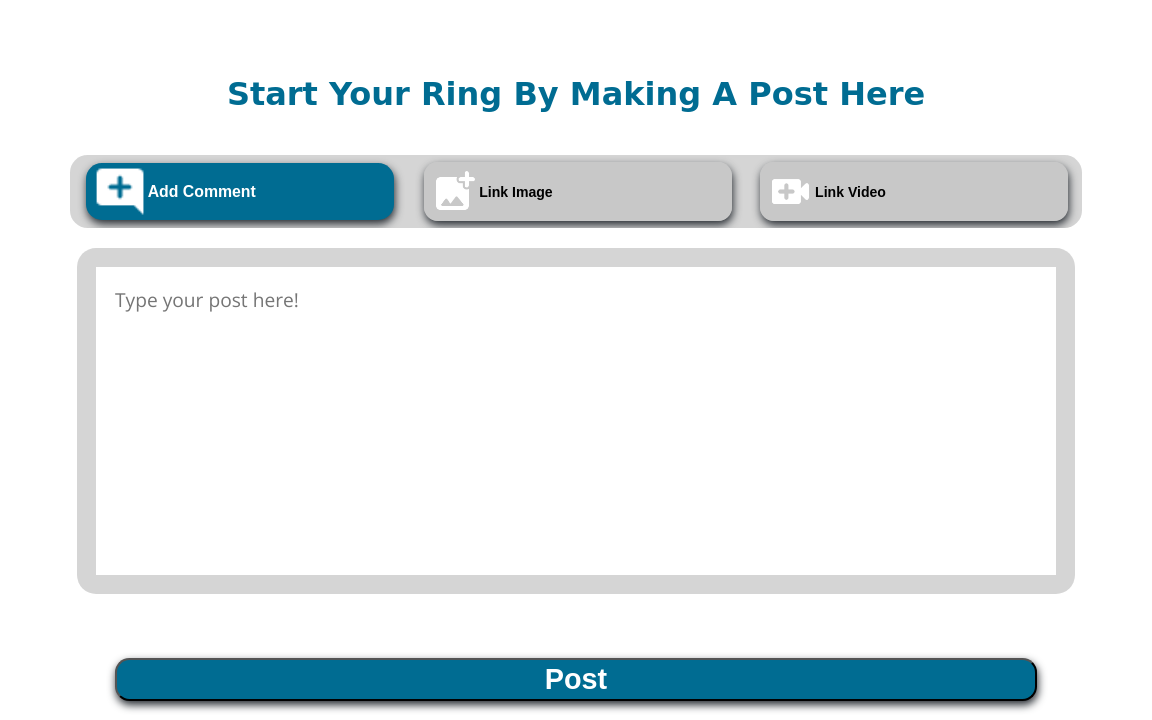
Test case: Make_Post › Make_Post › should switch forms when clicking buttons
Click the button "Link Image" at (455, 192), box [424, 162, 732, 221]
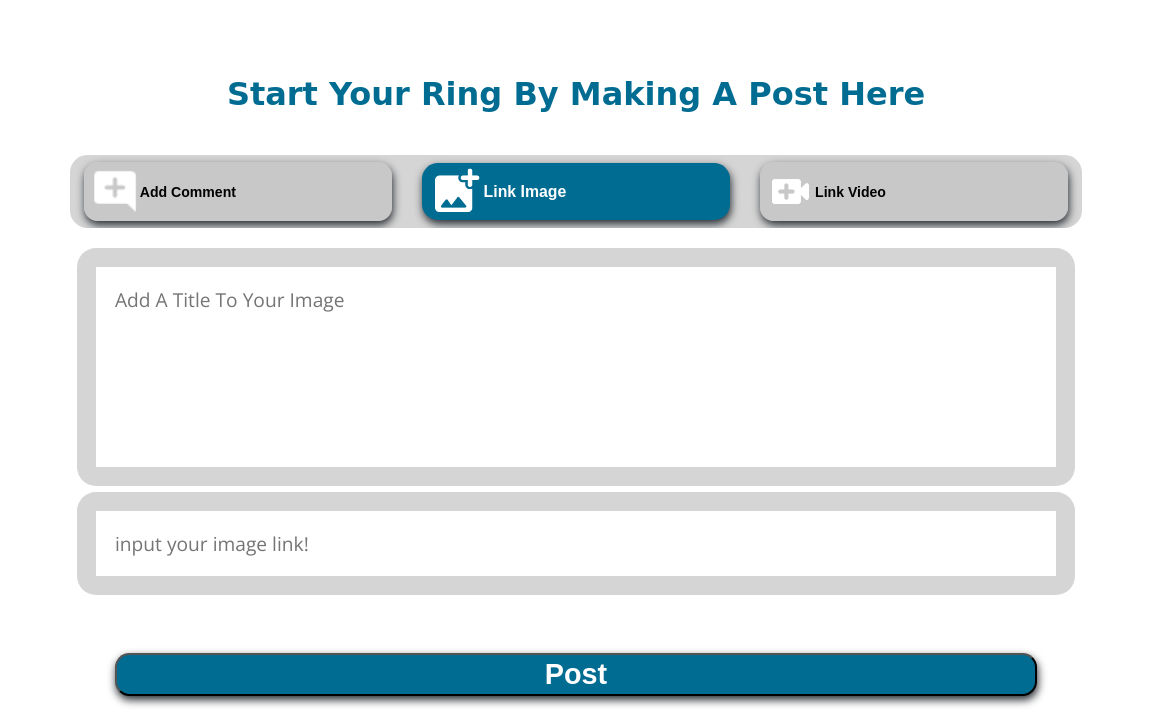
Expected: the text box with placeholder "Add A Title To Your Image" is shown, [77, 248, 1075, 486]
Click the button "Link Video" at (790, 192), box [760, 162, 1068, 221]
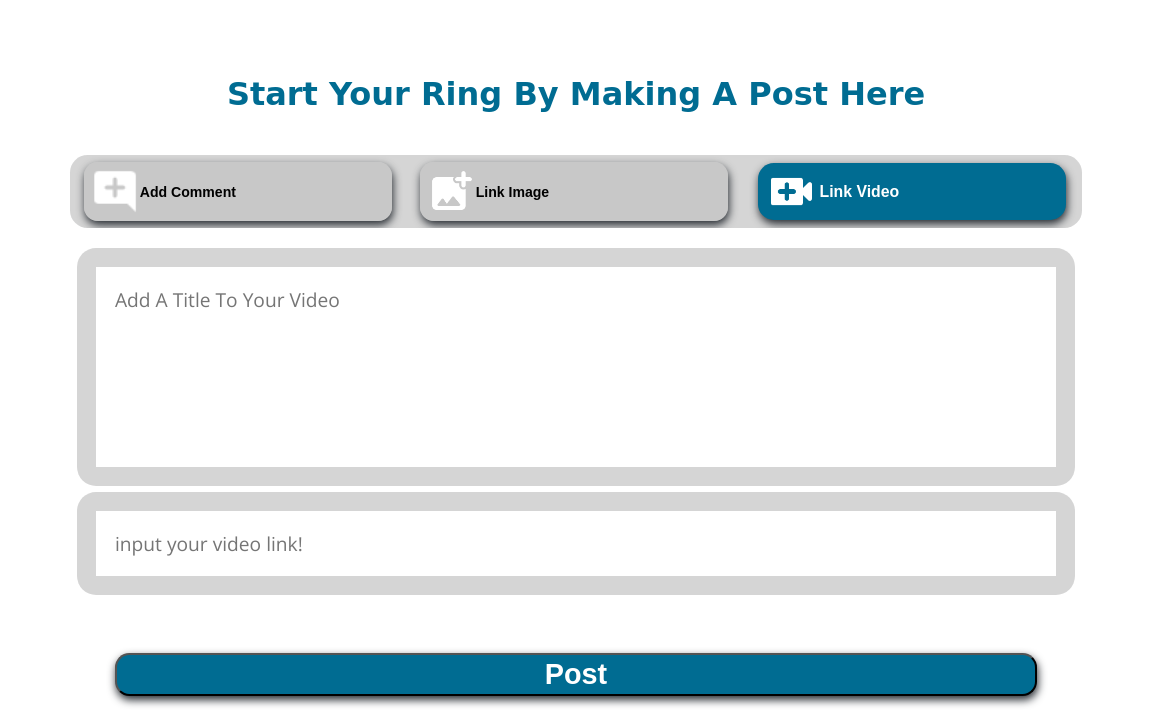
Expected: the text box with placeholder "Add A Title To Your Video" is shown, [77, 248, 1075, 486]
Click the button "Add Comment" at (238, 192), box [84, 162, 392, 221]
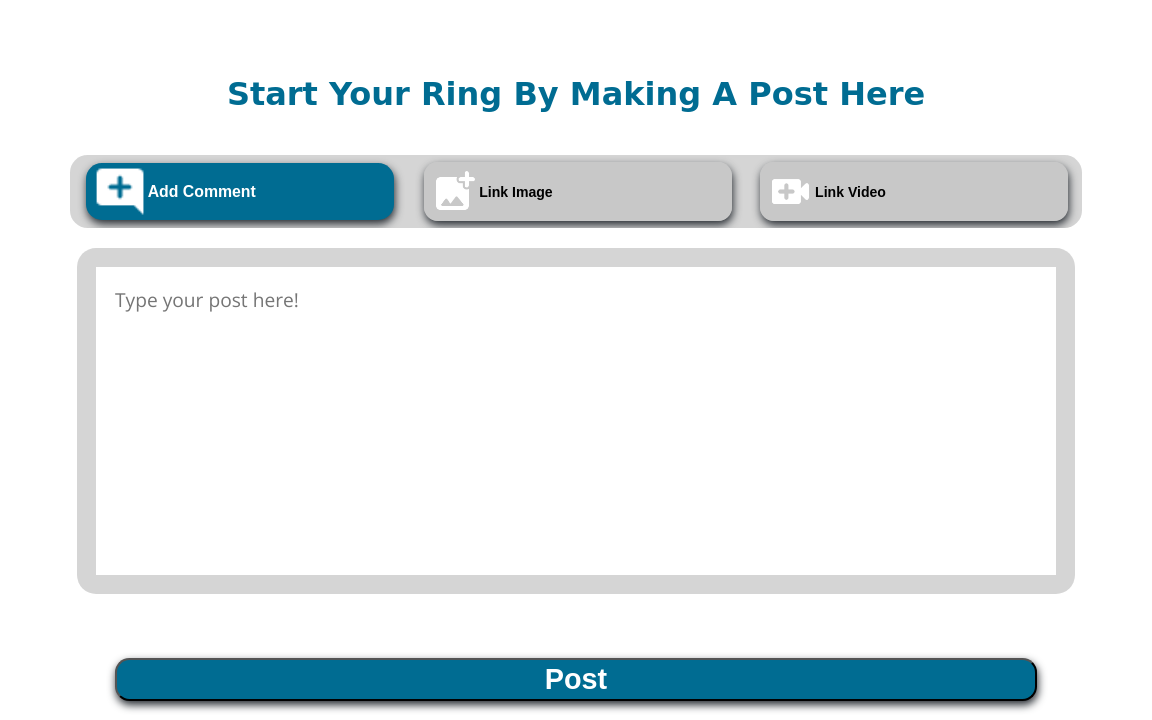
Expected: the text box with placeholder "Type your post here!" is shown, [77, 248, 1075, 594]
